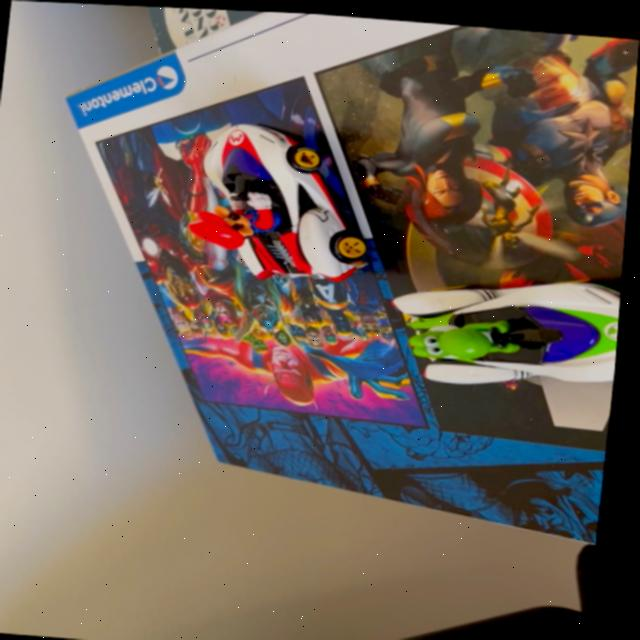mario: (174, 115, 398, 290)
yoshi: (377, 253, 626, 403)
